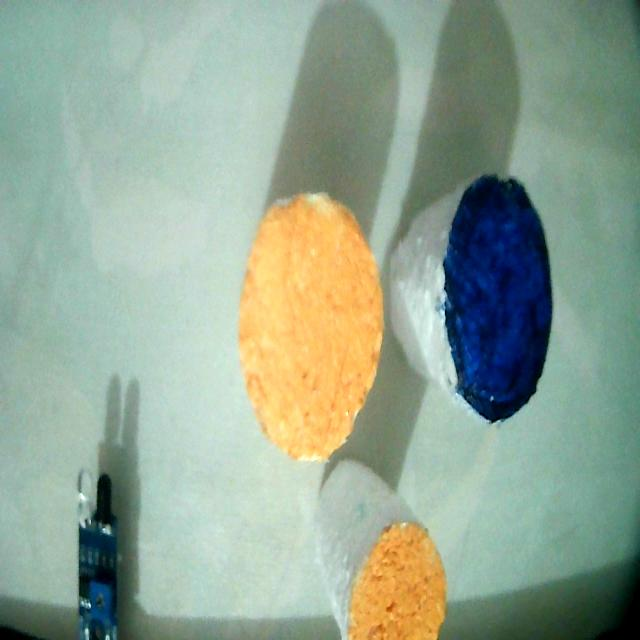blue: (444, 176, 552, 421)
yellow: (239, 194, 383, 459), (347, 525, 446, 639)
